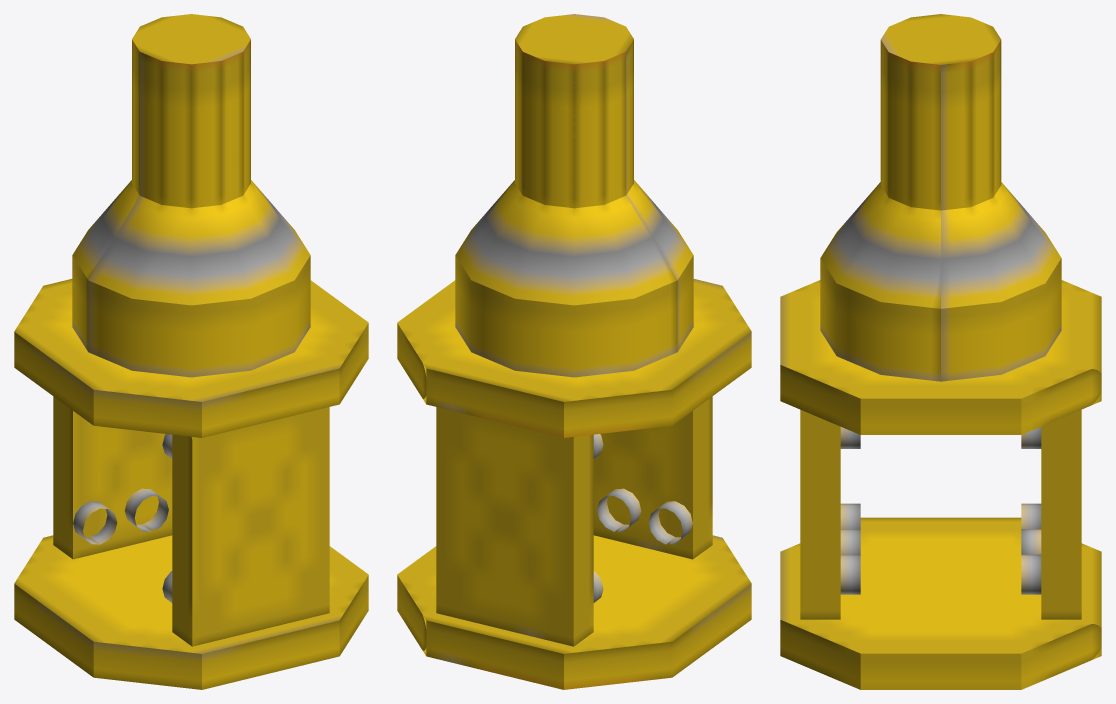
Rendered from crane_carriage.obj.
3 renders of one model, left to right at view 1: azimuth 30°, elevation 25°; view 2: azimuth 150°, elevation 25°; view 3: azimuth 270°, elevation 25°, orthographic.
Visible parts, largest first — view 1: Carriage; view 2: Carriage; view 3: Carriage.
Boxes of the visible parts, left/top/right/bottom form: Carriage: left=14, top=14, right=368, bottom=689; Carriage: left=397, top=14, right=751, bottom=689; Carriage: left=780, top=14, right=1101, bottom=689.
Size of the model in its own units: 1 by 2 by 1.
